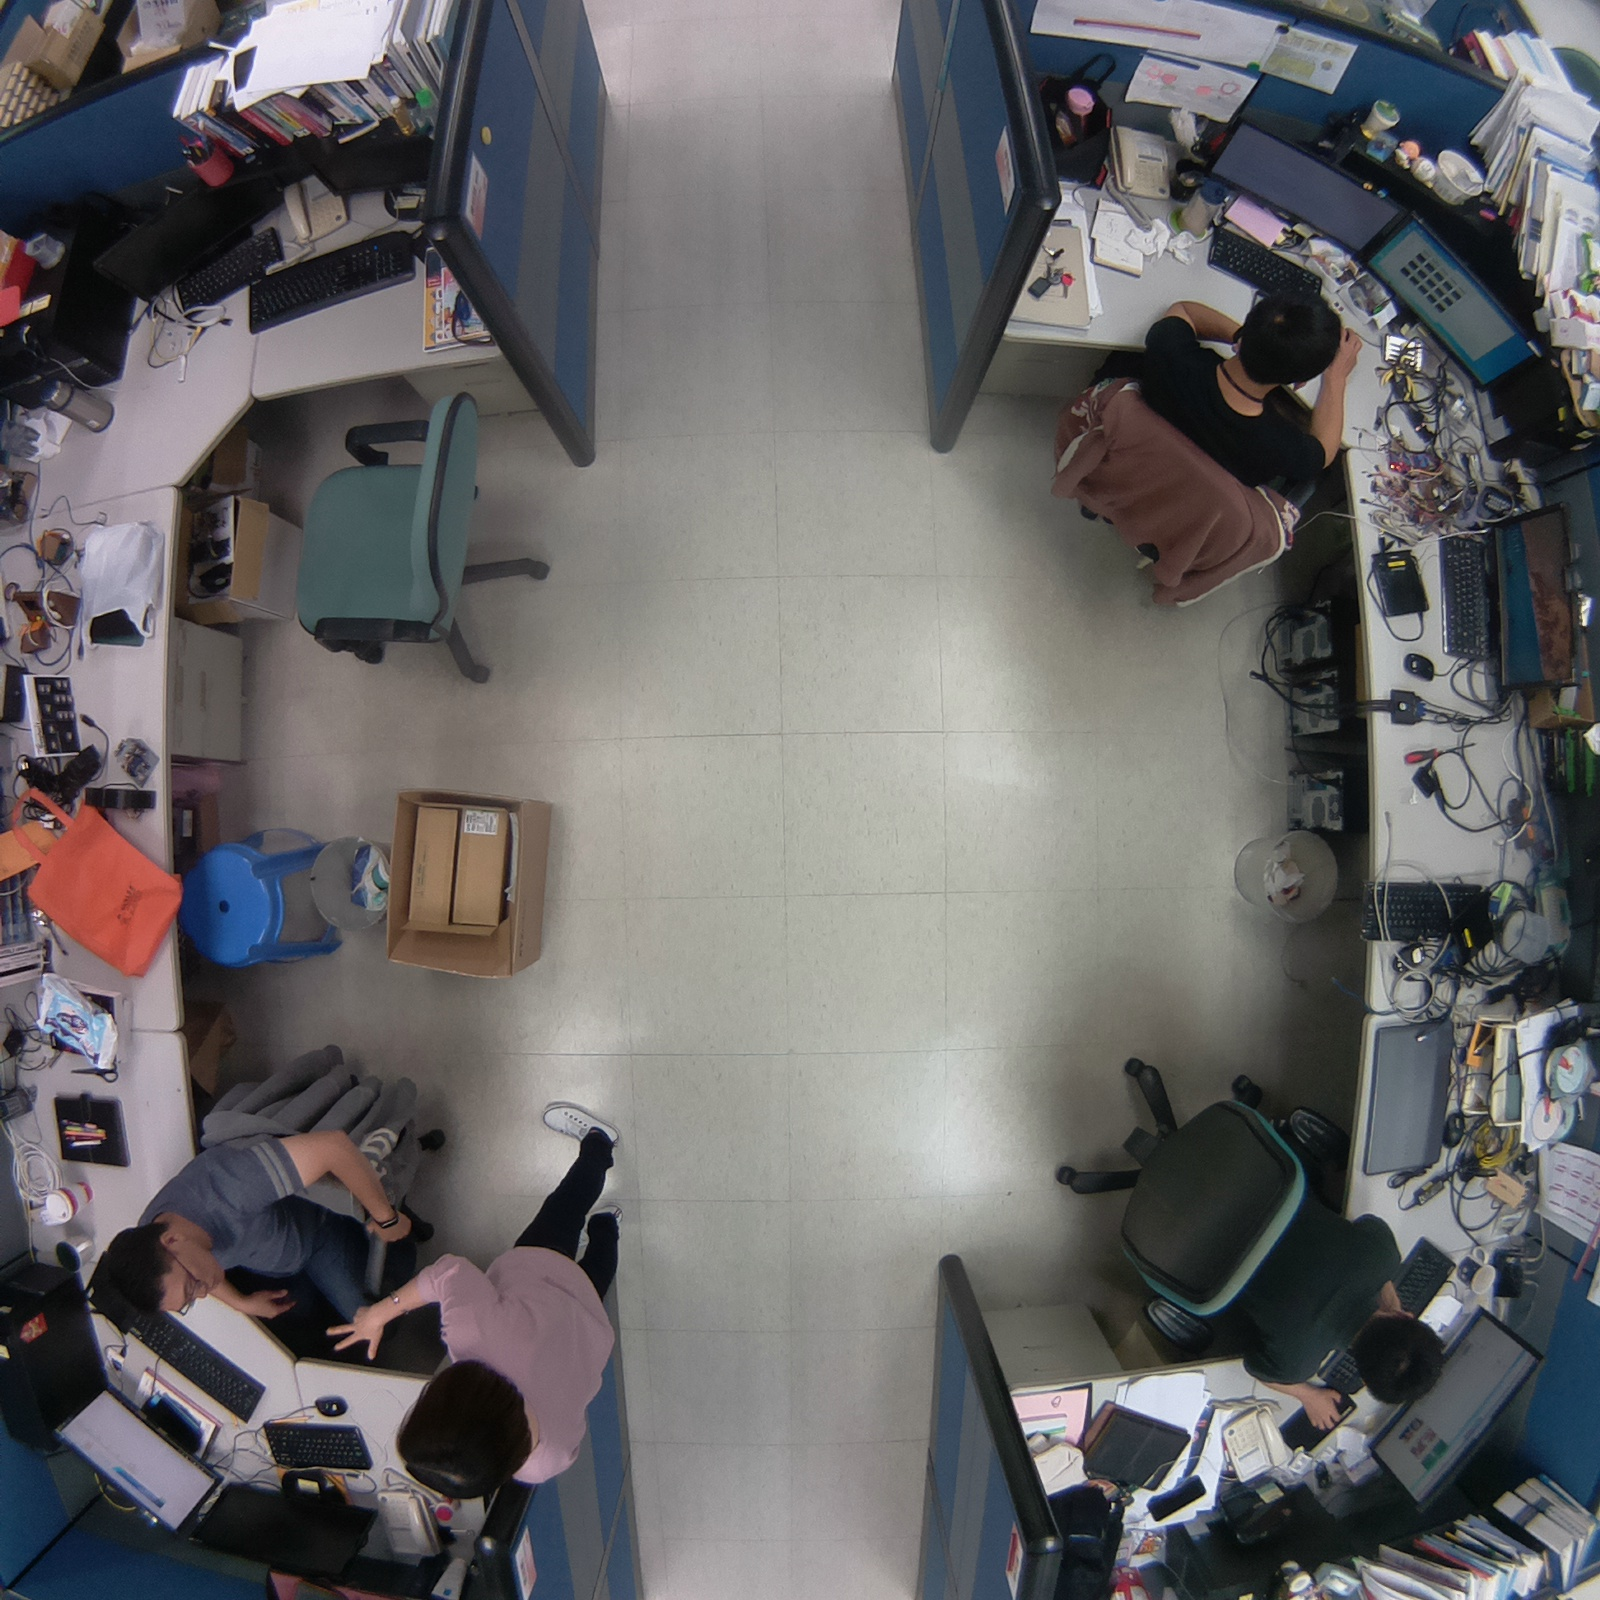chair: (286, 368, 568, 704)
head: (394, 1355, 554, 1506), (80, 1222, 229, 1339), (1227, 278, 1350, 394), (1348, 1304, 1450, 1412)
sitting: (1045, 1032, 1463, 1434), (81, 1029, 465, 1350), (1032, 258, 1360, 622)
standing: (317, 1081, 645, 1522)
